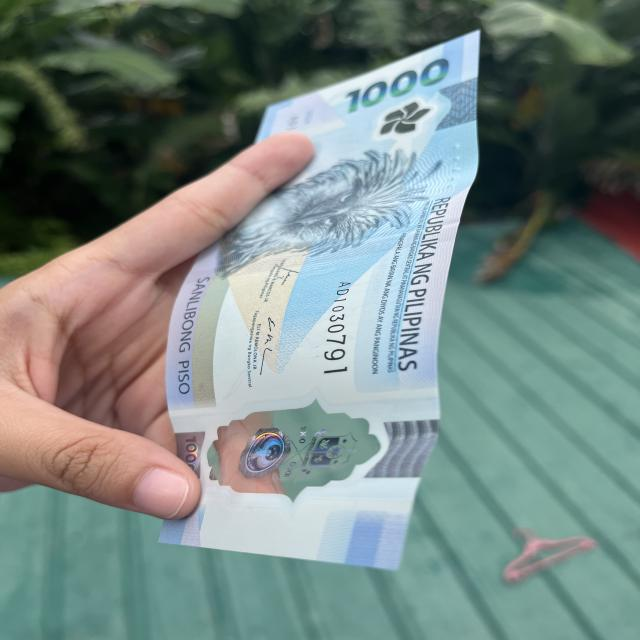clear_window: (190, 401, 387, 496)
eagle: (216, 142, 440, 274)
sampaguita: (341, 99, 436, 144)
serial_number: (318, 269, 366, 388)
value_watermark: (175, 429, 206, 473)
